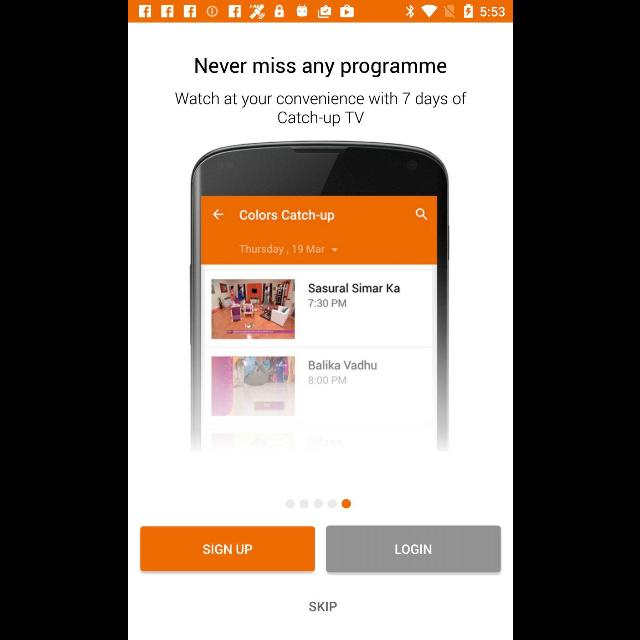image: (189, 140, 449, 452)
pageindicator: (284, 498, 352, 509)
text: (174, 91, 466, 127), (194, 58, 446, 78), (308, 601, 336, 611)
textbutton: (326, 526, 500, 572), (140, 526, 314, 572)
uppertaskbar: (128, 1, 512, 23)
